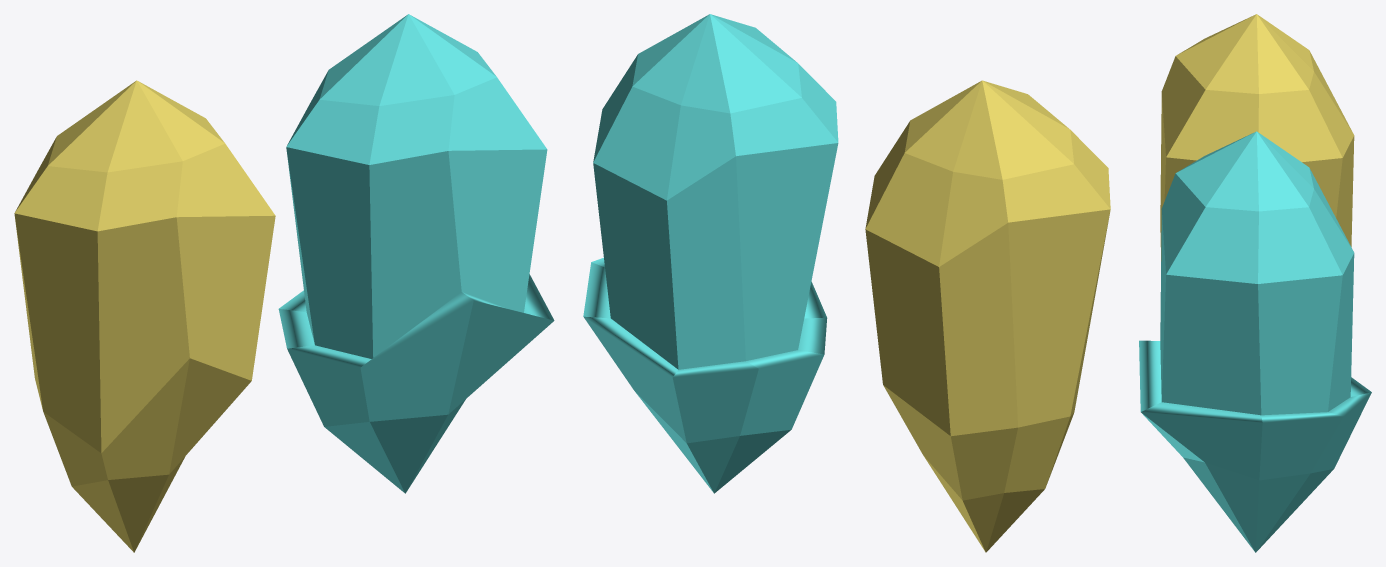
Rendered from Crystals.fbx.
3 views of the same model, side by side, from view 1: azimuth 30°, elevation 25°; view 2: azimuth 150°, elevation 25°; view 3: azimuth 270°, elevation 25° (orthographic). The views are drawn at different scales.
Parts seen in each view (by area): view 1: Crystal_2, Crystal_1; view 2: Crystal_2, Crystal_1; view 3: Crystal_2, Crystal_1.
Part boxes in pixels (x1,y1,x2,y2): Crystal_2: [278, 14, 554, 493]; Crystal_1: [14, 80, 275, 552]; Crystal_2: [583, 14, 838, 493]; Crystal_1: [865, 80, 1110, 552]; Crystal_2: [1139, 131, 1371, 552]; Crystal_1: [1160, 14, 1354, 261].
Bounding box in the file's own units: 2.39 × 2.13 × 1.06.
